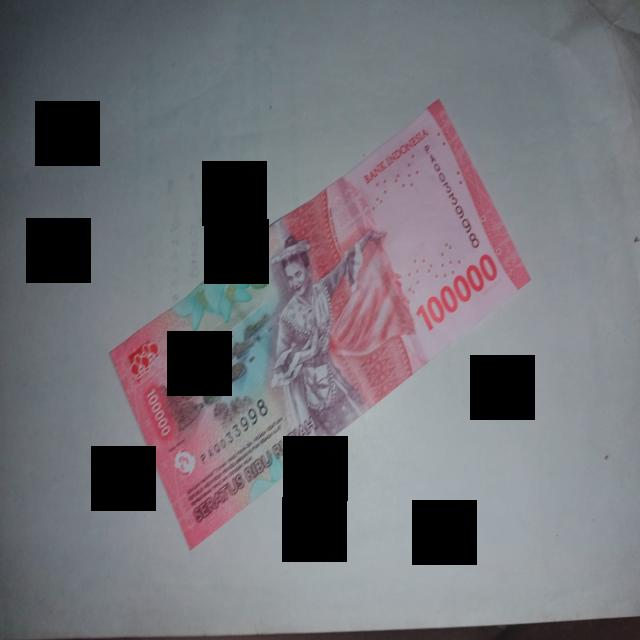seratusribu rupiah: (111, 102, 529, 548)
